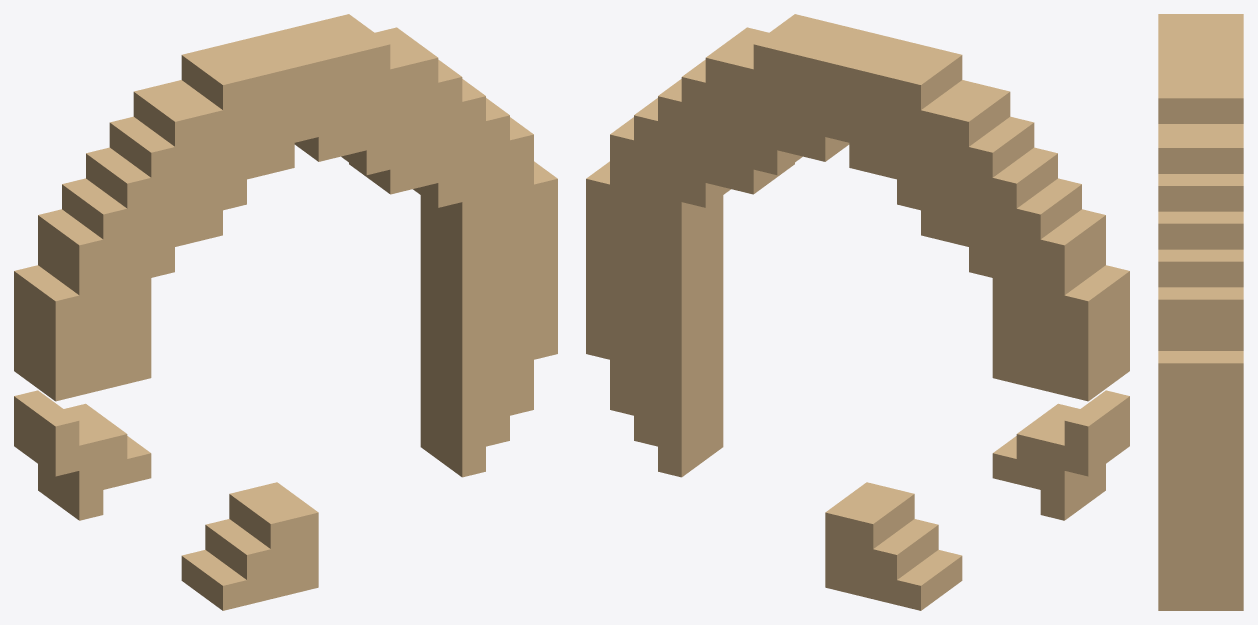
File: brass-nut.glb
3 views of the same model, side by side, from view 1: azimuth 30°, elevation 25°; view 2: azimuth 150°, elevation 25°; view 3: azimuth 270°, elevation 25° (orthographic). The views are drawn at different scales.
Visible parts, largest first — view 1: Brass Nut; view 2: Brass Nut; view 3: Brass Nut.
Part boxes in pixels (bbox=[...]): Brass Nut: bbox=[14, 14, 557, 610]; Brass Nut: bbox=[586, 14, 1129, 610]; Brass Nut: bbox=[1158, 14, 1243, 610].
Bounding box in the file's own units: 5.46 × 5.46 × 0.7803.
